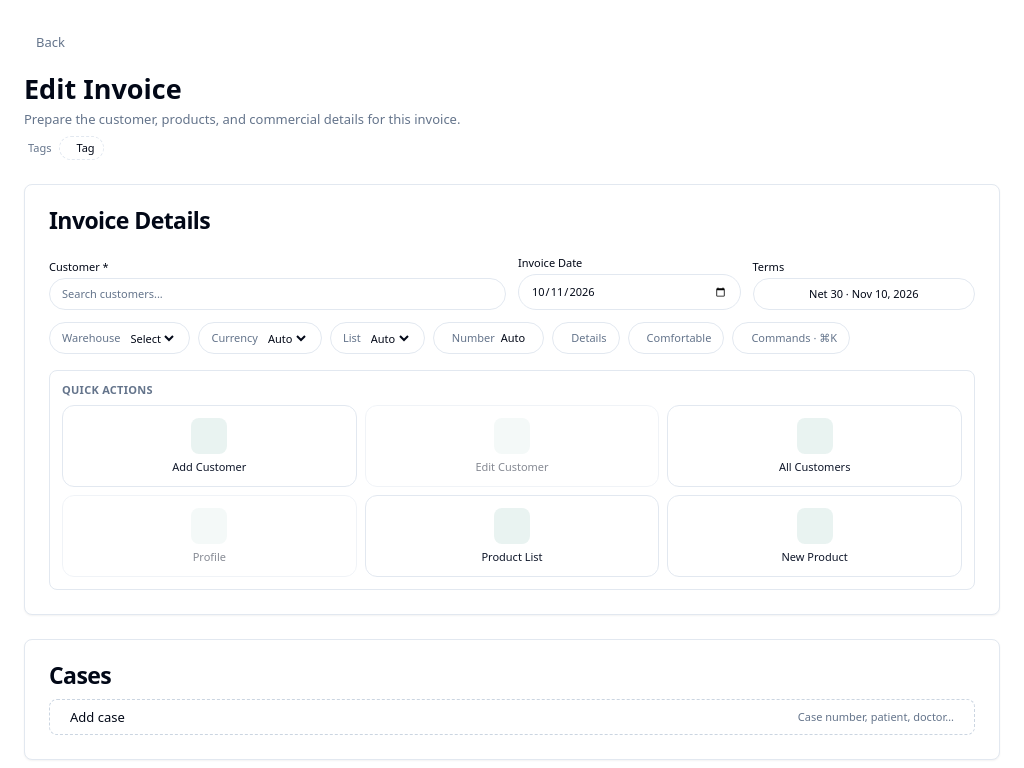
Test case: CreateInvoicePage — customer/contact billing defaults › #1007: editing an invoice keeps its saved billing contact instead of re-pointing it to the customer default
The image size is (1024, 768).
Click the button titled "References, contacts, addresses, notes and profile fields": (586, 338) [552, 322, 620, 354]
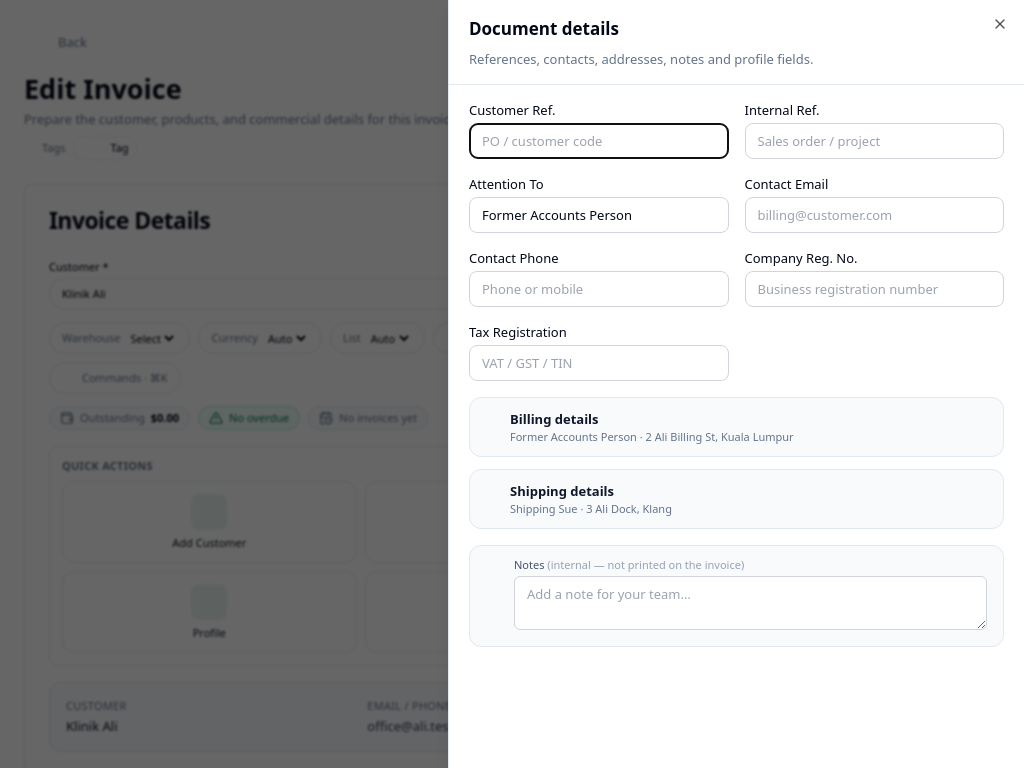
Result: the text "Details · Former Accounts Person" is shown at [634, 331, 805, 345]
